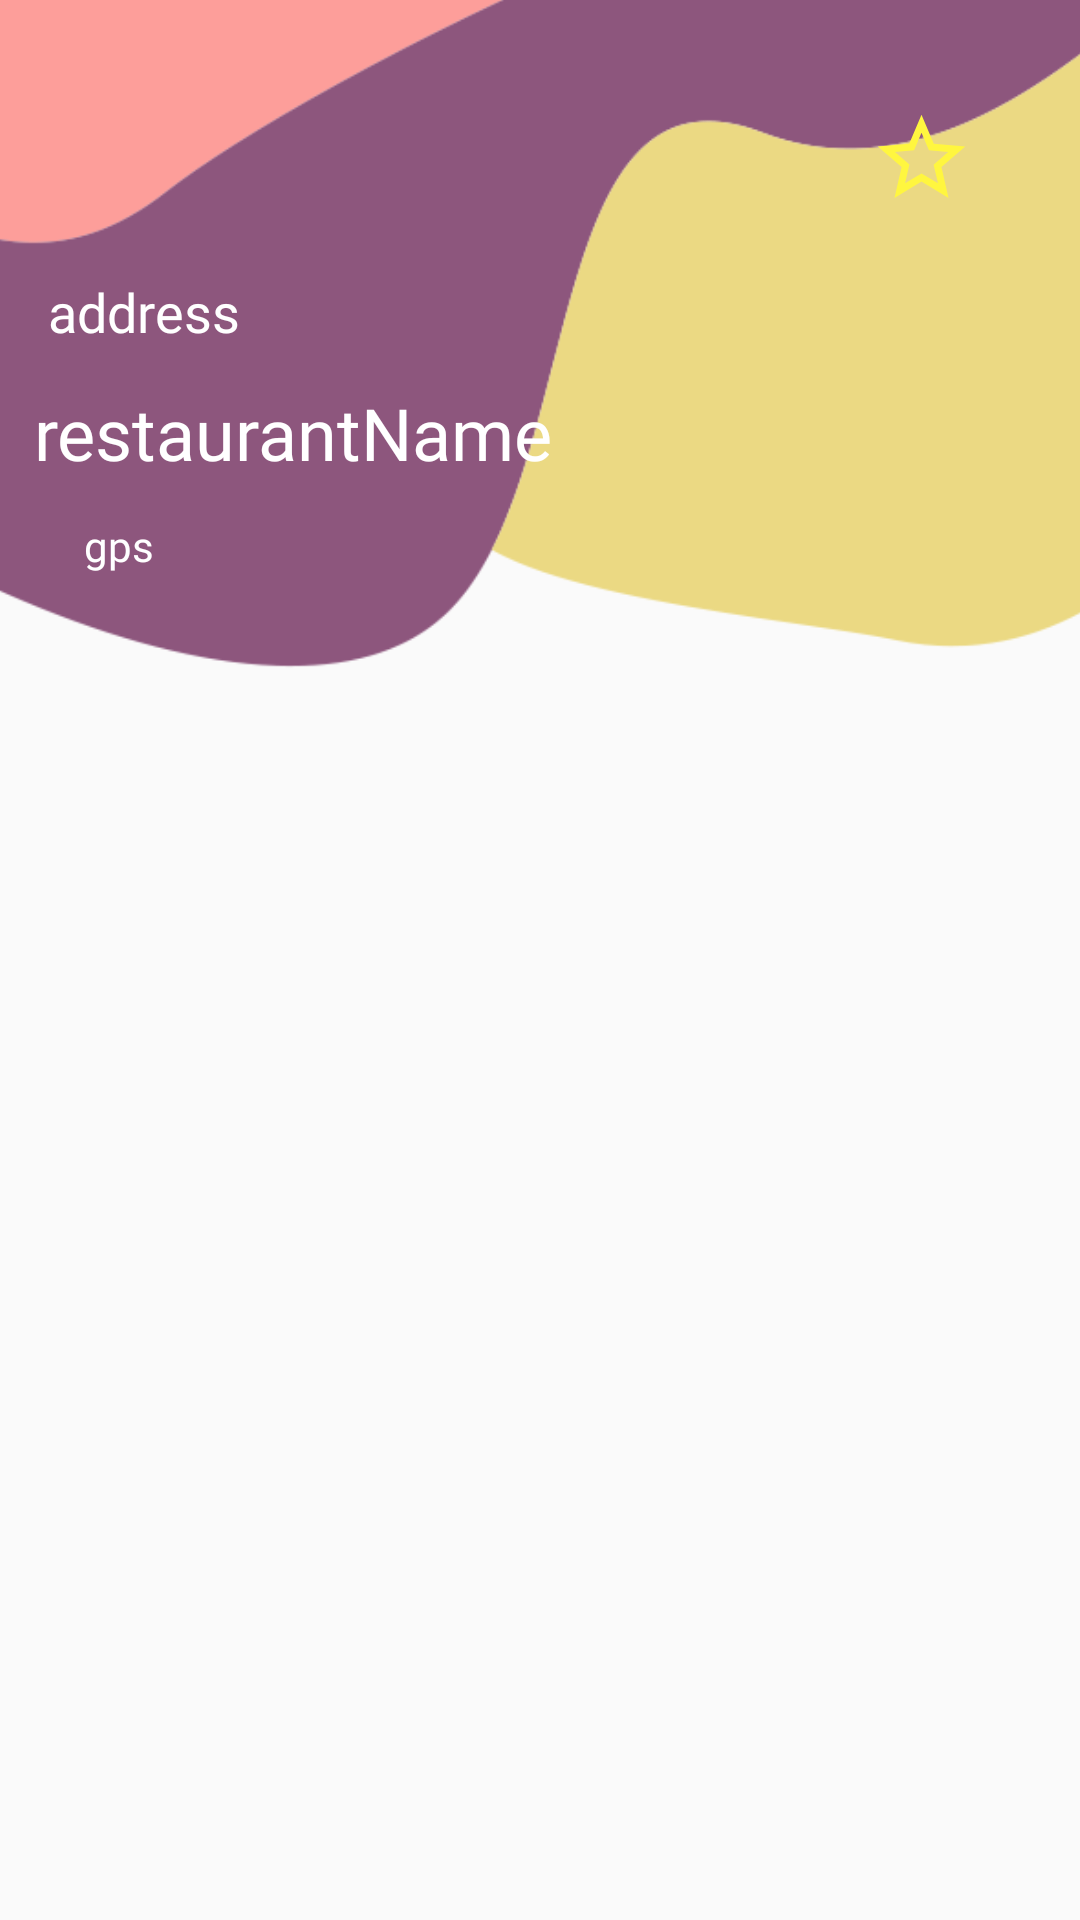

Point at icon controls on the screen. Image size 1080x1920, points as (x,y).
star border: (921,147)
